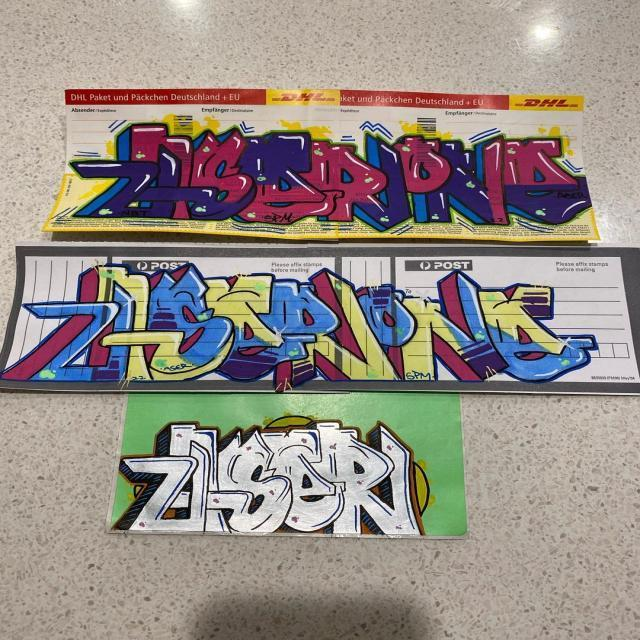-: (20, 248, 613, 395), (58, 95, 605, 246), (122, 397, 462, 538)
